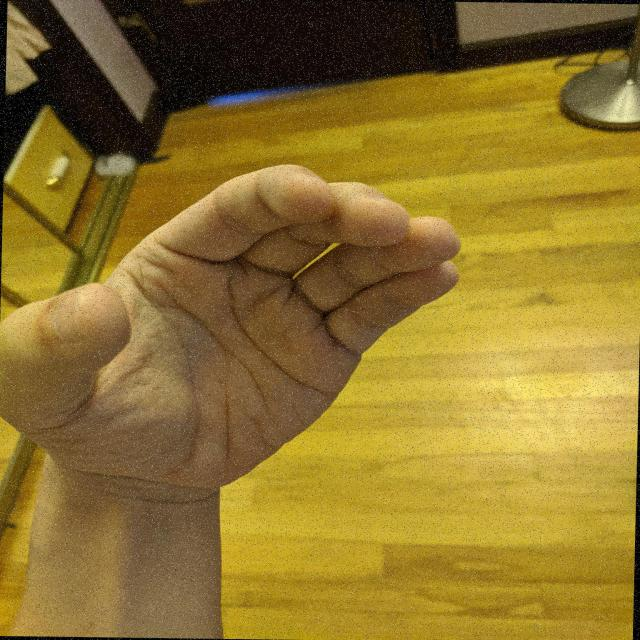C: (0, 147, 468, 511)
